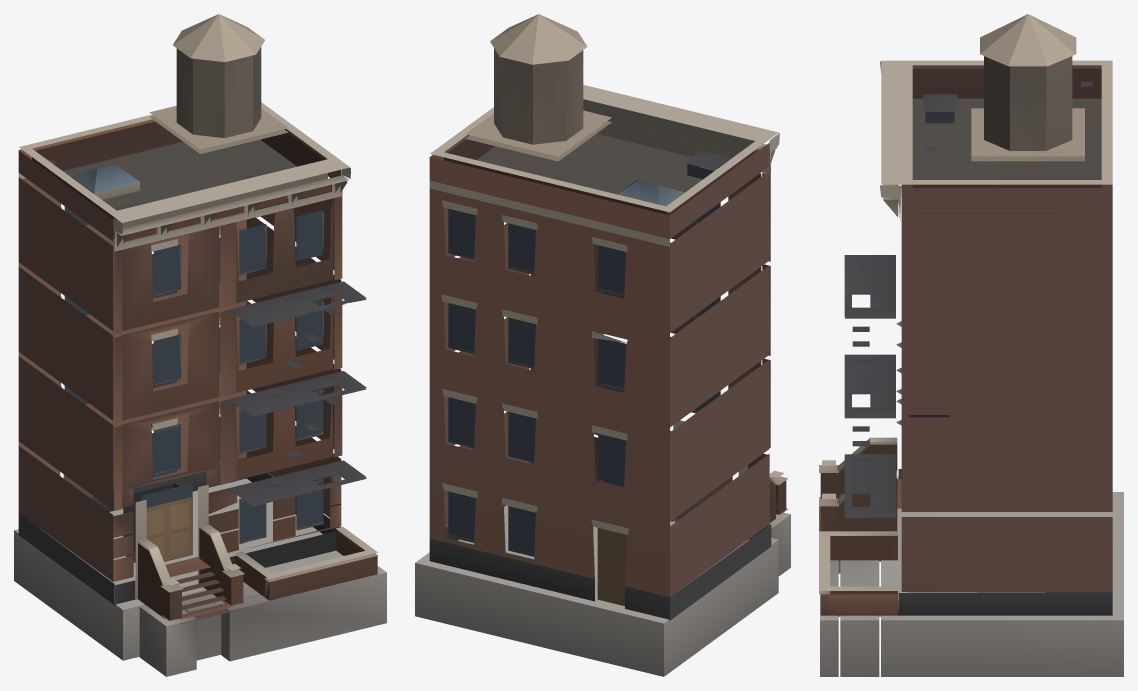
The model's file is hotel.lod.glb.
3 renders of one model, left to right at view 1: azimuth 30°, elevation 25°; view 2: azimuth 150°, elevation 25°; view 3: azimuth 270°, elevation 25°, orthographic. The views are drawn at different scales.
Parts seen in each view (by area): view 1: hotel; view 2: hotel; view 3: hotel.
Boxes of the visible parts, box(x1,y1,x2,y2) form: hotel: box(14, 14, 386, 676); hotel: box(415, 14, 790, 676); hotel: box(819, 14, 1123, 676).
Bounding box in the file's own units: 7.48 × 16.85 × 7.48.
